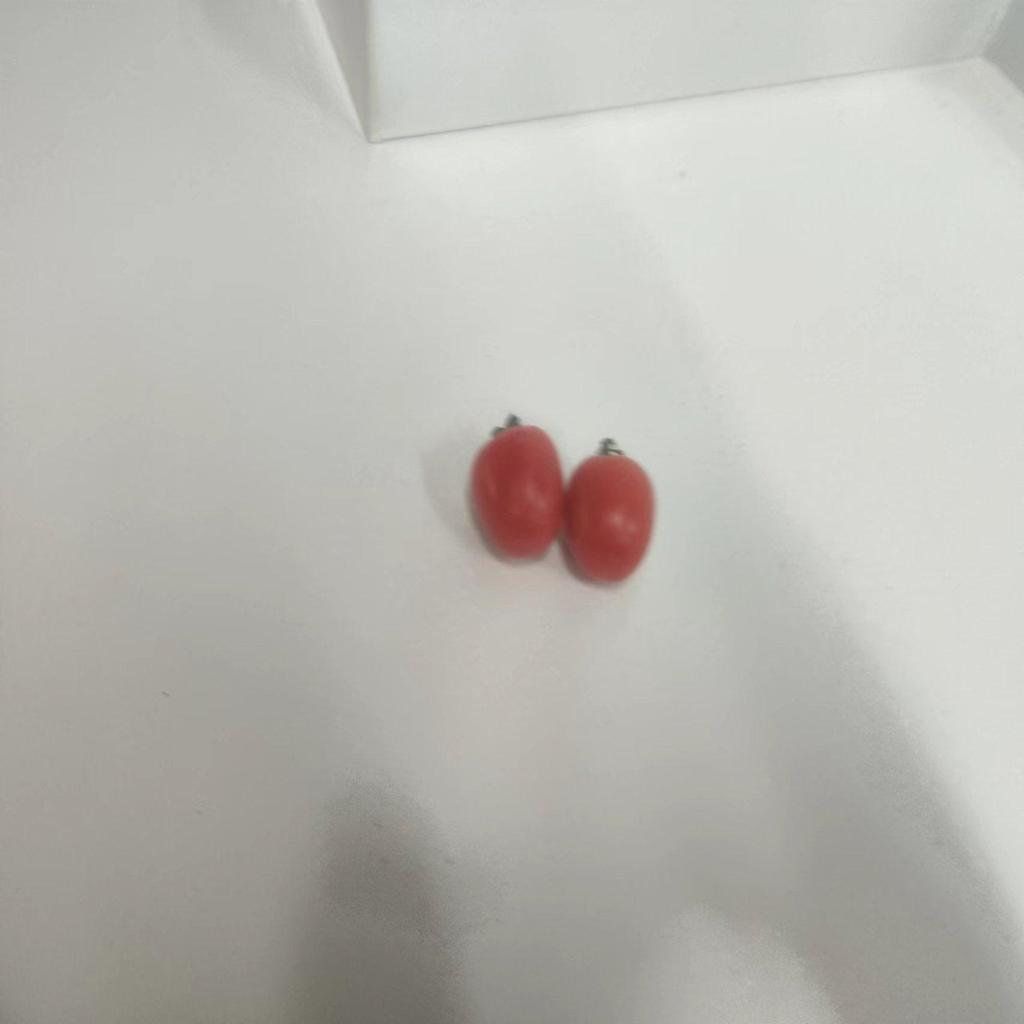tomato: (469, 419, 566, 563), (566, 451, 651, 578)
